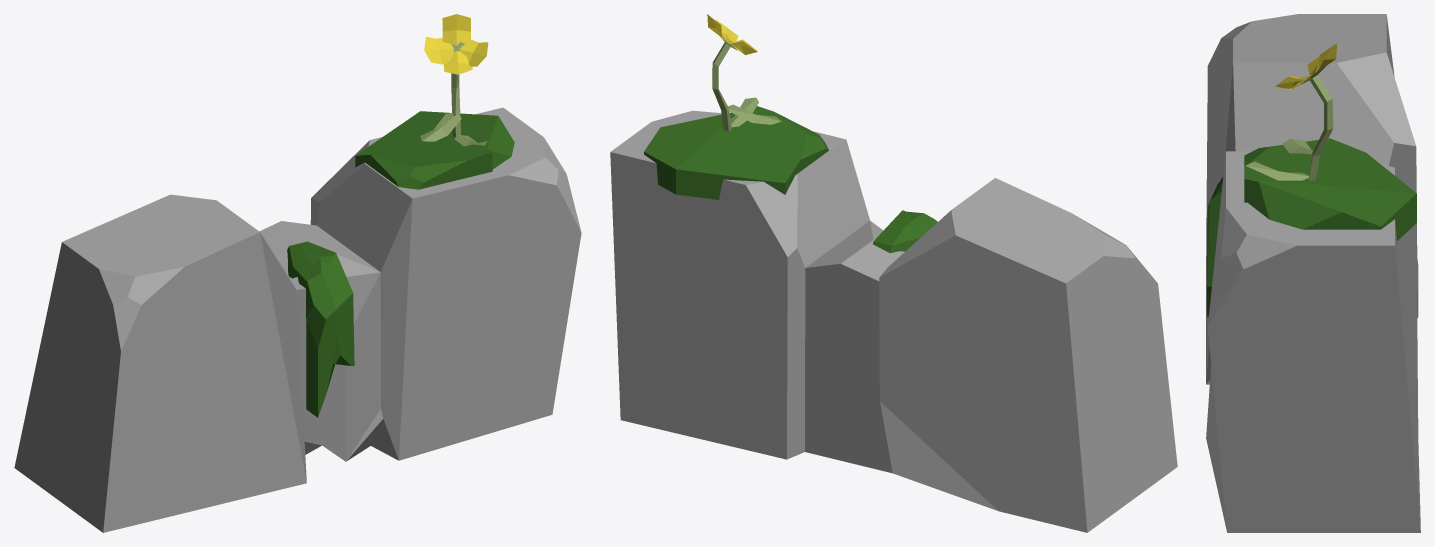
File: WallLvl4.fbx
The picture shows the model from 3 angles, left to right: view 1: azimuth 30°, elevation 25°; view 2: azimuth 150°, elevation 25°; view 3: azimuth 270°, elevation 25°; orthographic projection. The views are drawn at different scales.
Parts seen in each view (by area): view 1: Cube.001; view 2: Cube.001; view 3: Cube.001.
Part boxes in pixels (left/top/right/bottom): Cube.001: left=14, top=14, right=581, bottom=532; Cube.001: left=610, top=14, right=1177, bottom=532; Cube.001: left=1206, top=14, right=1420, bottom=532.
Bounding box in the file's own units: 164 × 125 × 53.37.
